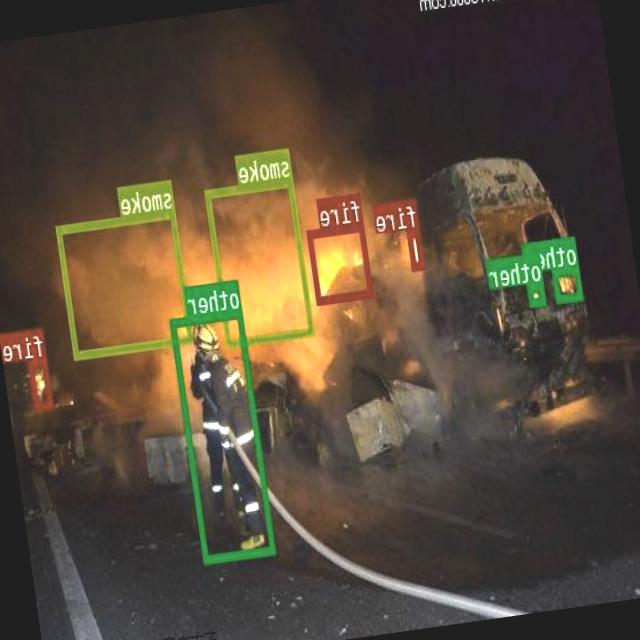fire: (308, 222, 374, 303), (29, 356, 54, 408), (408, 227, 426, 268)
smoke: (58, 209, 194, 358), (207, 177, 316, 347)
